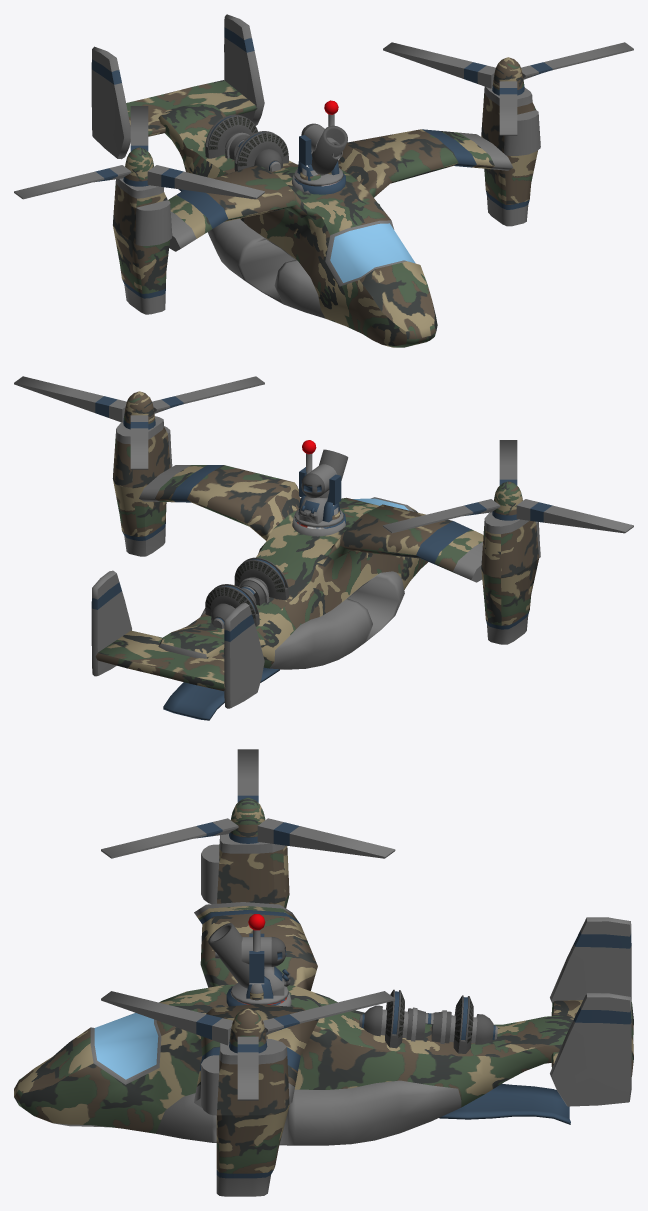
File: Aircraft_upd (2).fbx
The picture shows the model from 3 angles, top to bottom: view 1: azimuth 30°, elevation 25°; view 2: azimuth 150°, elevation 25°; view 3: azimuth 270°, elevation 25°; orthographic projection. The views are drawn at different scales.
Parts seen in each view (by area): view 1: Aircraft, Switcher, R_wing, L_wing, Shield_generator, landmines_cannon, antenna, landmines_cannon_platform; view 2: Aircraft, Switcher, R_wing, L_wing, Shield_generator, door, landmines_cannon, laser_gun, landmines_cannon_platform, rotating_element; view 3: Aircraft, Switcher, R_wing, L_wing, Shield_generator, door, landmines_cannon, laser_gun, antenna, landmines_cannon_platform.
Boxes of the visible parts, bbox=[...] form: Aircraft: bbox=[91, 14, 513, 347]; Switcher: bbox=[113, 86, 540, 314]; R_wing: bbox=[383, 42, 633, 135]; L_wing: bbox=[14, 106, 264, 199]; Shield_generator: bbox=[205, 114, 288, 171]; landmines_cannon: bbox=[297, 125, 347, 180]; antenna: bbox=[294, 100, 345, 194]; landmines_cannon_platform: bbox=[292, 168, 343, 193]; Aircraft: bbox=[91, 465, 483, 708]; Switcher: bbox=[112, 416, 540, 644]; R_wing: bbox=[14, 376, 264, 469]; L_wing: bbox=[383, 440, 633, 533]; Shield_generator: bbox=[205, 557, 288, 628]; door: bbox=[163, 667, 279, 720]; landmines_cannon: bbox=[298, 449, 348, 524]; laser_gun: bbox=[301, 464, 336, 497]; landmines_cannon_platform: bbox=[292, 509, 345, 536]; rotating_element: bbox=[299, 467, 341, 506]; Aircraft: bbox=[14, 902, 633, 1145]; Switcher: bbox=[201, 834, 289, 1196]; R_wing: bbox=[101, 991, 395, 1100]; L_wing: bbox=[101, 749, 395, 858]; Shield_generator: bbox=[359, 989, 497, 1053]; door: bbox=[439, 1084, 570, 1124]; landmines_cannon: bbox=[208, 923, 290, 998]; laser_gun: bbox=[215, 937, 286, 966]; antenna: bbox=[226, 914, 284, 1006]; landmines_cannon_platform: bbox=[230, 983, 291, 1006].
Bounding box in the file's own units: 3830 × 1094 × 2872.
